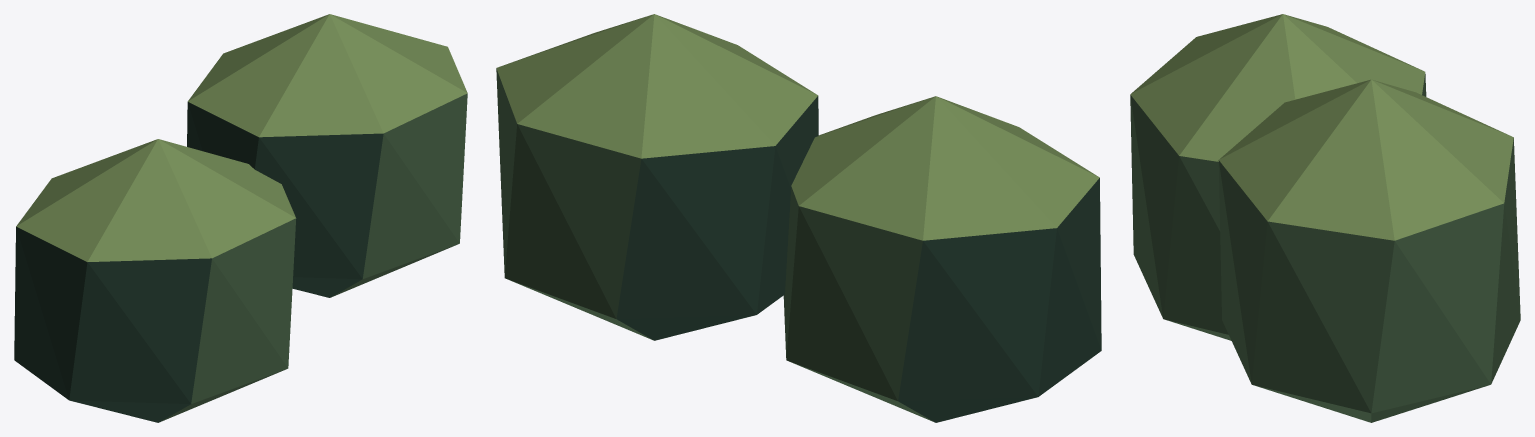
The model's file is TW_VEG_BUSH_SPARSE_A_LOD0.glb.
3 renders of one model, left to right at view 1: azimuth 30°, elevation 25°; view 2: azimuth 150°, elevation 25°; view 3: azimuth 270°, elevation 25°, orthographic. The views are drawn at different scales.
Parts seen in each view (by area): view 1: TW_VEG_BUSH_SPARSE_A_LOD0; view 2: TW_VEG_BUSH_SPARSE_A_LOD0; view 3: TW_VEG_BUSH_SPARSE_A_LOD0.
Boxes of the visible parts, x1=… form: TW_VEG_BUSH_SPARSE_A_LOD0: x1=14, y1=14, x2=467, y2=422; TW_VEG_BUSH_SPARSE_A_LOD0: x1=496, y1=14, x2=1101, y2=422; TW_VEG_BUSH_SPARSE_A_LOD0: x1=1130, y1=14, x2=1520, y2=422.
Bounding box in the file's own units: 1.02 × 0.7 × 0.6183.
1 material, 1 textured.
